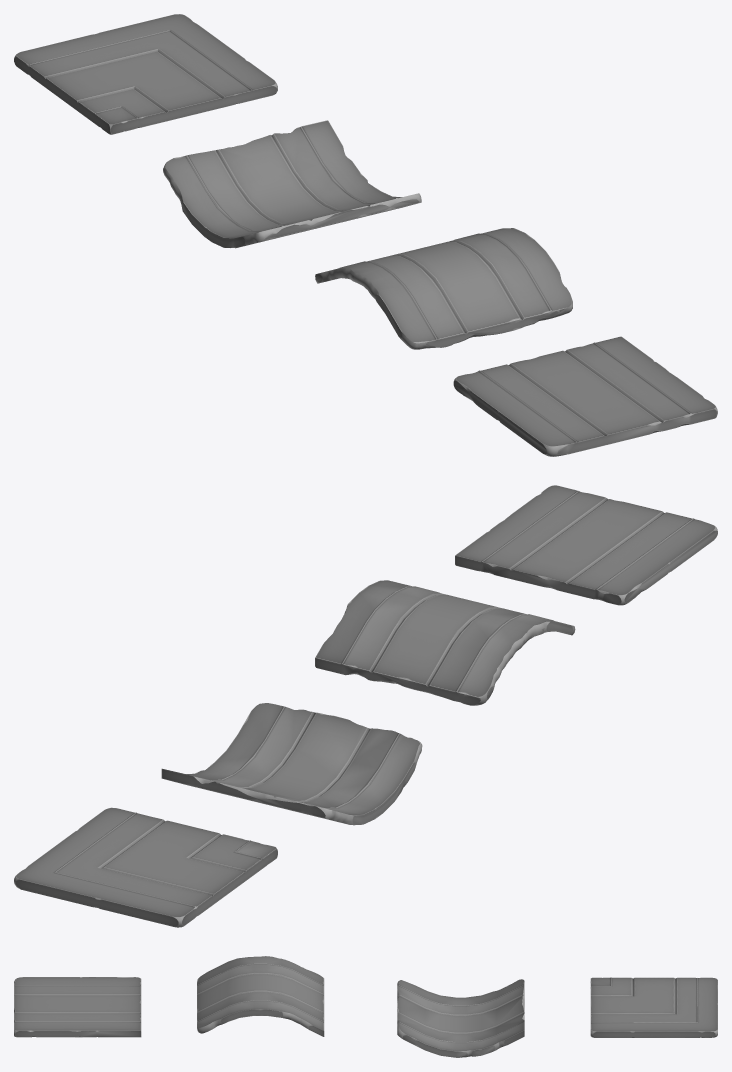
File: MESH_FloorPieces.glb
3 renders of one model, top to bottom at view 1: azimuth 30°, elevation 25°; view 2: azimuth 150°, elevation 25°; view 3: azimuth 270°, elevation 25°, orthographic. The views are drawn at different scales.
Visible parts, largest first — view 1: MESH_Floor_Corner, MESH_FloorSquare, MESH_Floor_Curvedown, MESH_Floor_CurveUp; view 2: MESH_Floor_Corner, MESH_FloorSquare, MESH_Floor_Curvedown, MESH_Floor_CurveUp; view 3: MESH_FloorSquare, MESH_Floor_Corner, MESH_Floor_Curvedown, MESH_Floor_CurveUp.
Boxes of the visible parts, bbox=[...] form: MESH_Floor_Corner: bbox=[14, 14, 277, 134]; MESH_FloorSquare: bbox=[453, 336, 717, 456]; MESH_Floor_Curvedown: bbox=[163, 120, 421, 248]; MESH_Floor_CurveUp: bbox=[315, 228, 572, 349]; MESH_Floor_Corner: bbox=[14, 807, 277, 927]; MESH_FloorSquare: bbox=[455, 485, 717, 605]; MESH_Floor_Curvedown: bbox=[161, 703, 422, 825]; MESH_Floor_CurveUp: bbox=[315, 580, 575, 705]; MESH_FloorSquare: bbox=[14, 977, 141, 1037]; MESH_Floor_Corner: bbox=[590, 977, 717, 1037]; MESH_Floor_Curvedown: bbox=[397, 979, 524, 1057]; MESH_Floor_CurveUp: bbox=[197, 956, 324, 1036].
Size of the model in its own units: 5.15 by 2.15 by 28.09.
Materials: 1 (1 with a texture image).
